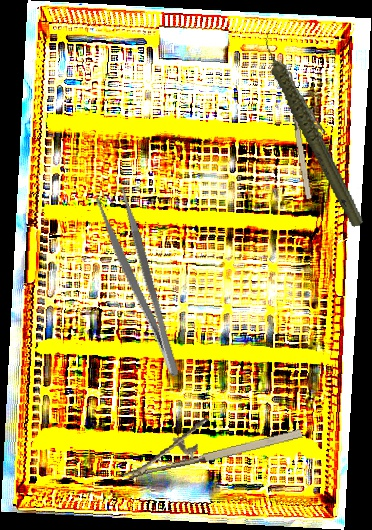Dressing Forceps: (94, 186, 184, 384)
Handpiece: (259, 19, 367, 238)
Needle Holder: (114, 399, 304, 481), (286, 67, 333, 200)
